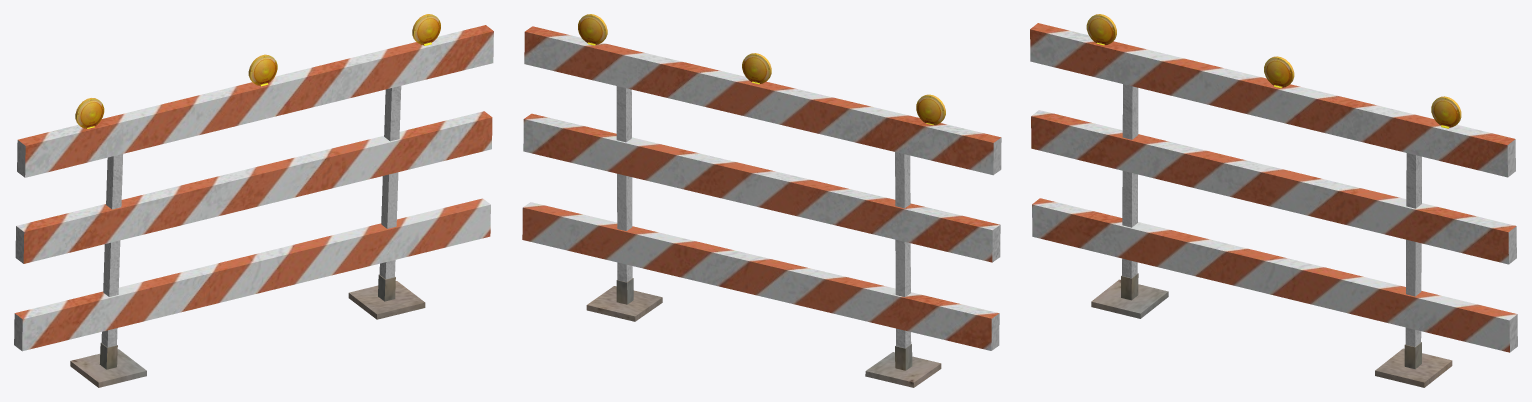
Rendered from TrafficBarricade3.obj.
3 renders of one model, left to right at view 1: azimuth 30°, elevation 25°; view 2: azimuth 150°, elevation 25°; view 3: azimuth 330°, elevation 25°, orthographic.
Visible parts, largest first — view 1: Barricade3L_lambert1_0.001, Light8_lambert1_0.001, Light9_lambert1_0.001, Light7_lambert1_0.001; view 2: Barricade3L_lambert1_0.001, Light9_lambert1_0.001, Light8_lambert1_0.001, Light7_lambert1_0.001; view 3: Barricade3L_lambert1_0.001, Light9_lambert1_0.001, Light8_lambert1_0.001, Light7_lambert1_0.001.
Part boxes in pixels (x1,y1,x2,y2): Barricade3L_lambert1_0.001: (14, 25, 493, 387); Light8_lambert1_0.001: (248, 54, 277, 86); Light9_lambert1_0.001: (412, 14, 440, 45); Light7_lambert1_0.001: (75, 98, 104, 128); Barricade3L_lambert1_0.001: (522, 26, 1001, 387); Light9_lambert1_0.001: (578, 14, 607, 45); Light8_lambert1_0.001: (742, 53, 771, 84); Light7_lambert1_0.001: (916, 94, 945, 125); Barricade3L_lambert1_0.001: (1030, 23, 1517, 387); Light9_lambert1_0.001: (1431, 96, 1461, 128); Light8_lambert1_0.001: (1264, 56, 1294, 88); Light7_lambert1_0.001: (1086, 14, 1116, 45).
Size of the model in its own units: 2.78 by 1.6 by 0.3013.
